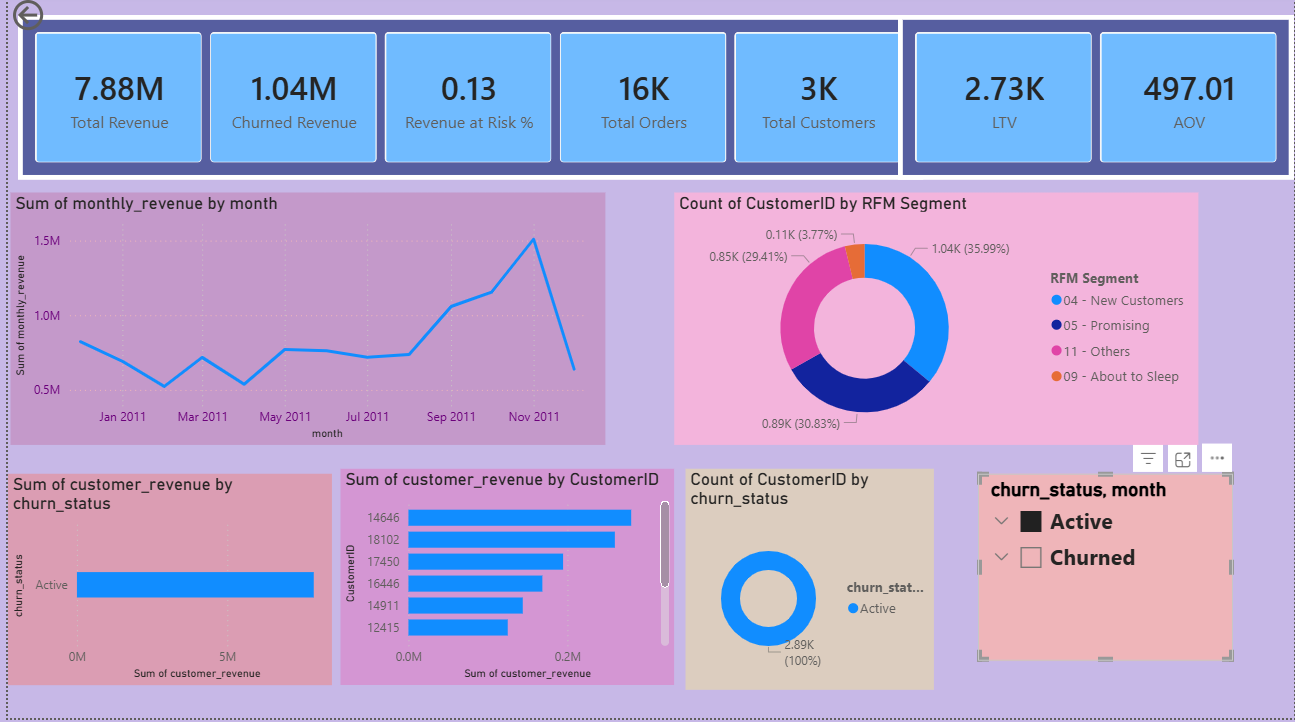

The dashboard page shown, as its layout file describes it:
{"tool":"powerbi","page":{"name":"Page 1","canvas":[1280,720],"ordinal":0},"visuals":[{"type":"lineChart","fields":{"Category":["Query1.month.Variation.Date Hierarchy.Year","Query1.month.Variation.Date Hierarchy.Quarter","Query1.month.Variation.Date Hierarchy.Month","Query1.month.Variation.Date Hierarchy.Day"],"Y":["Sum(Query1.monthly_revenue)"]},"box":[2.5,196.5,592.1,251.3],"z":0},{"type":"barChart","fields":{"Category":["fact_customer_revenue.CustomerID"],"Y":["Sum(fact_customer_revenue.customer_revenue)"]},"box":[330.9,471.5,332.1,215.2],"z":1000},{"type":"donutChart","fields":{"Category":["dim_customer_churn.churn_status"],"Y":["CountNonNull(dim_customer_churn.CustomerID)"]},"box":[674.2,471.5,247.5,220.2],"z":2000},{"type":"barChart","fields":{"Category":["dim_customer_churn.churn_status"],"Y":["Sum(fact_customer_revenue.customer_revenue)"]},"box":[0,476.4,322.2,210.2],"z":3000},{"type":"cardVisual","fields":{"Data":["fact_customer_revenue.Total Revenue","dim_customer_churn.Churned Revenue","dim_customer_churn.Revenue at Risk %","dim_customer_churn.Total Orders Dynamic","dim_customer_churn.Total Customers Dynamic"]},"box":[10,19.9,900.6,164.2],"z":4000},{"type":"actionButton","box":[0,0,100,40],"z":5000},{"type":"slicer","fields":{"Values":["dim_customer_churn.churn_status","Query1.month"]},"box":[965.3,476.4,253.8,186.6],"z":6000},{"type":"cardVisual","fields":{"Data":["dim_customer_churn.LTV","fact_customer_revenue.AOV"]},"box":[885.7,19.9,394.3,164.2],"z":7000},{"type":"donutChart","fields":{"Category":["fact_rfm.RFM Segment"],"Y":["Count(dim_customer_churn.CustomerID)"]},"box":[663,196.5,521.2,251.3],"z":8000}]}

Visuals, with their boxes on the page's 1280x720 design canvas (x1, y1, x2, y2). These are canvas units, not pixel positions in the 1295x722 screenshot, which may show the page scaled, cropped or inside an application window:
lineChart - Query1.month.Variation.Date Hierarchy.Year x Query1.month.Variation.Date Hierarchy.Quarter: [left=2, top=196, right=595, bottom=448]
barChart - fact_customer_revenue.CustomerID x Sum(fact_customer_revenue.customer_revenue): [left=331, top=472, right=663, bottom=687]
donutChart - dim_customer_churn.churn_status x CountNonNull(dim_customer_churn.CustomerID): [left=674, top=472, right=922, bottom=692]
barChart - dim_customer_churn.churn_status x Sum(fact_customer_revenue.customer_revenue): [left=0, top=476, right=322, bottom=687]
cardVisual - fact_customer_revenue.Total Revenue x dim_customer_churn.Churned Revenue: [left=10, top=20, right=911, bottom=184]
actionButton: [left=0, top=0, right=100, bottom=40]
slicer - dim_customer_churn.churn_status x Query1.month: [left=965, top=476, right=1219, bottom=663]
cardVisual - dim_customer_churn.LTV x fact_customer_revenue.AOV: [left=886, top=20, right=1280, bottom=184]
donutChart - fact_rfm.RFM Segment x Count(dim_customer_churn.CustomerID): [left=663, top=196, right=1184, bottom=448]
